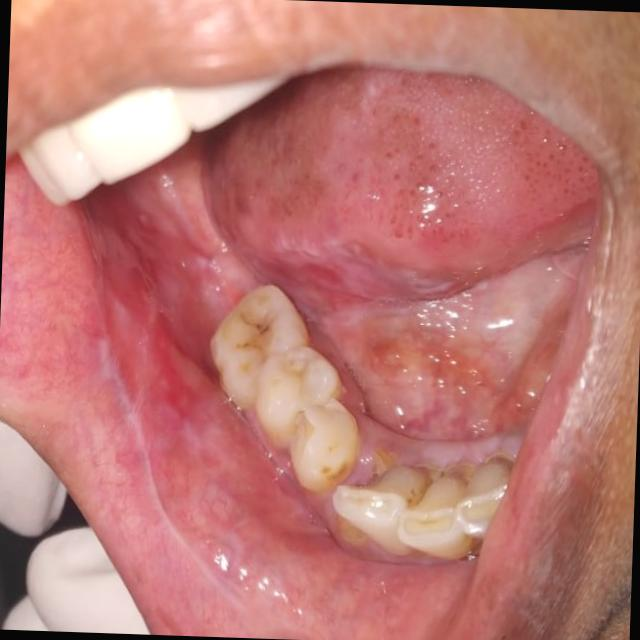Cancer: (326, 249, 574, 471)
